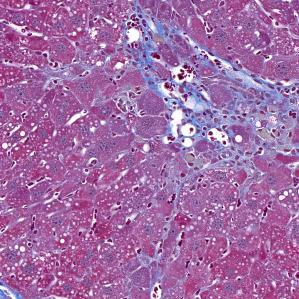fibrosis: (159, 65, 285, 159)
